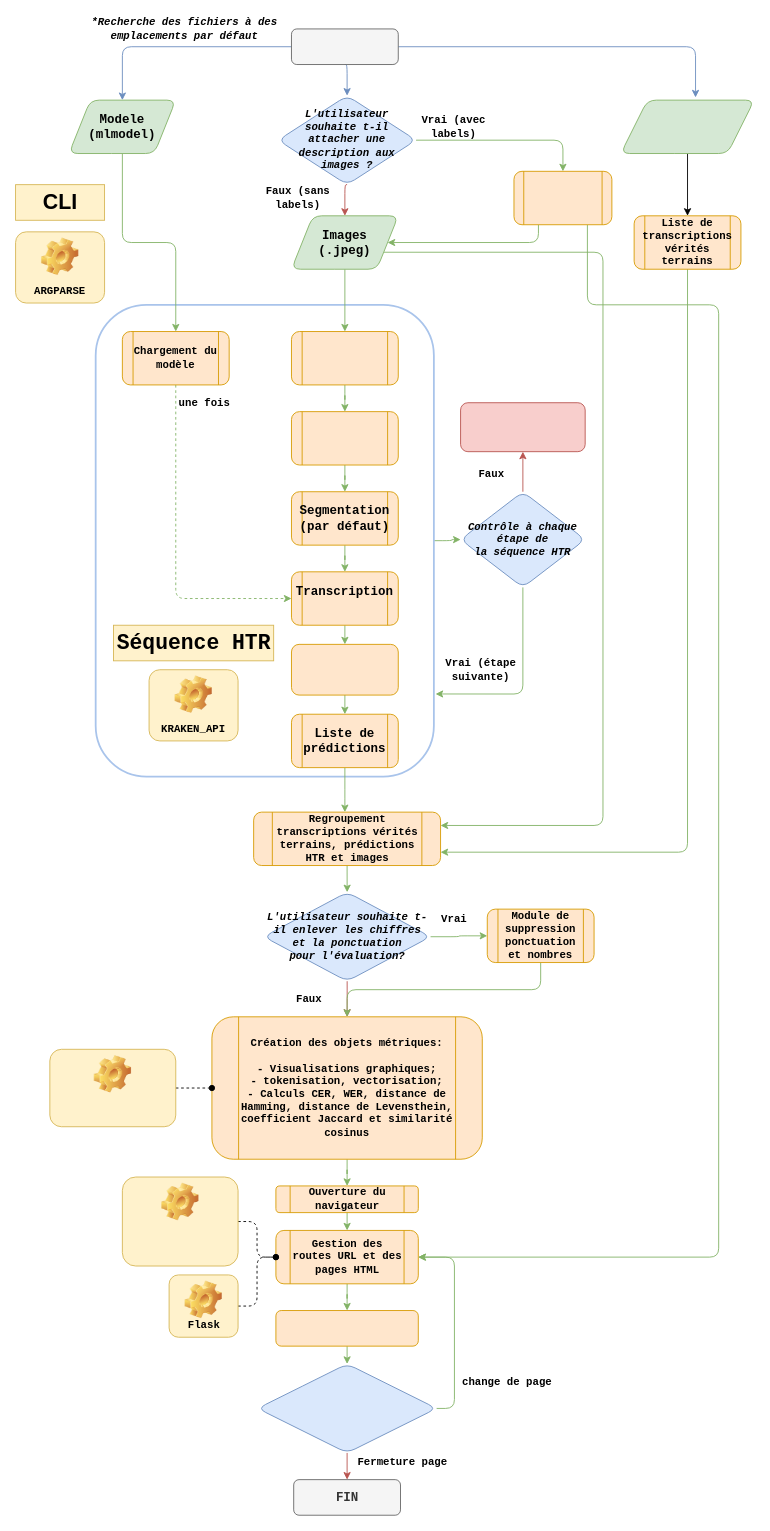
Some shapes in this 770 by 1531 pixel diagram are drawn without their labels. The shapes that lost their labels are listed below. From the top down, each one's centre as x and y in pixels, then its label:
At [344,46]: "DEBUT*".
At [687,126]: "Transcriptions vérités terrains des images (.txt)".
At [562,197]: "Stockage descriptions dans une liste".
At [344,358]: "Ouverture image".
At [344,438]: "Binarisation".
At [522,427]: "Sortie de programme et log d'erreur pour l'étape problématique".
At [344,669]: "Prediction normalisée Unicode".
At [112,1087]: "Package_STS_Tools ( SynSemTS )".
At [179,1221]: "Package_STS_Tools ( STSignals - expérimental )".
At [346,1328]: "Affichage dans le navigateur".
At [347,1408]: "L'utilisateur change de page ou ferme la page?".
